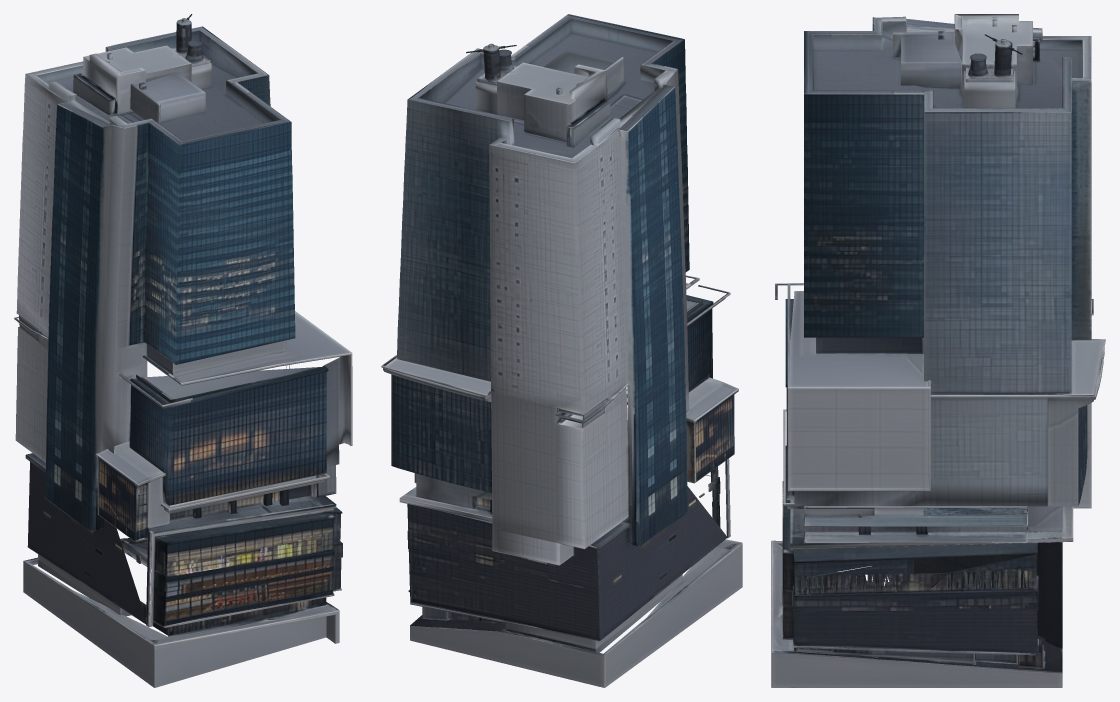
File: town-office-tower.1024.glb
3 views of the same model, side by side, from view 1: azimuth 30°, elevation 25°; view 2: azimuth 150°, elevation 25°; view 3: azimuth 270°, elevation 25° (orthographic). The views are drawn at different scales.
Parts seen in each view (by area): view 1: tripo_2c2f6661_c444_4fea_b8f9_9a0a708df6be; view 2: tripo_2c2f6661_c444_4fea_b8f9_9a0a708df6be; view 3: tripo_2c2f6661_c444_4fea_b8f9_9a0a708df6be.
Part boxes in pixels (box(x1,y1,x2,y2)): tripo_2c2f6661_c444_4fea_b8f9_9a0a708df6be: box(14, 14, 352, 687); tripo_2c2f6661_c444_4fea_b8f9_9a0a708df6be: box(381, 14, 742, 687); tripo_2c2f6661_c444_4fea_b8f9_9a0a708df6be: box(771, 14, 1105, 687).
Bounding box in the file's own units: 0.397 × 0.9995 × 0.4878.
Materials: 1 (1 with a texture image).
